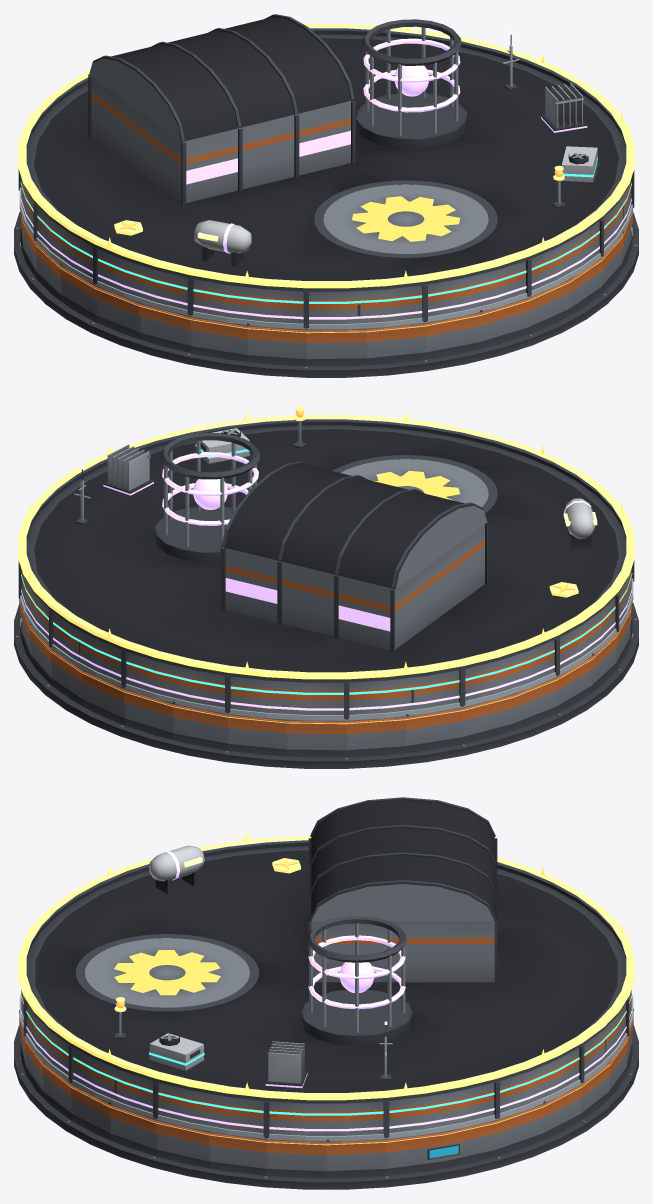
File: metamaterial_foundry_l.glb
The picture shows the model from 3 angles, top to bottom: view 1: azimuth 30°, elevation 25°; view 2: azimuth 150°, elevation 25°; view 3: azimuth 270°, elevation 25°; orthographic projection.
Visible parts, largest first — view 1: Roof, Base, L4, Wall_21, Wall_20, Wall_22, Wall_19, Wall_23, Wall_18, Wall_24, Upper_20, Upper_22 (+25 smaller); view 2: Roof, Base, L4, Wall_10, Wall_11, Wall_09, Wall_12, Wall_08, Wall_13, Wall_07, Upper_10, Upper_11 (+25 smaller); view 3: Roof, Base, L4, Wall_00, Wall_31, Wall_30, Wall_29, Wall_01, Wall_02, Upper_00, Upper_31, Wall_28 (+24 smaller).
Boxes of the visible parts, left/top/right/bottom form: Roof: left=25, top=14, right=627, bottom=291; Base: left=14, top=211, right=638, bottom=377; L4: left=194, top=83, right=587, bottom=266; Wall_21: left=306, top=328, right=366, bottom=366; Wall_20: left=247, top=323, right=306, bottom=366; Wall_22: left=366, top=323, right=425, bottom=365; Wall_19: left=190, top=316, right=247, bottom=361; Wall_23: left=425, top=312, right=480, bottom=359; Wall_18: left=139, top=303, right=191, bottom=353; Wall_24: left=479, top=298, right=528, bottom=348; Upper_20: left=247, top=287, right=306, bottom=327; Upper_22: left=366, top=285, right=425, bottom=322; Roof: left=25, top=419, right=627, bottom=682; Base: left=14, top=602, right=638, bottom=768; L4: left=103, top=444, right=597, bottom=549; Wall_10: left=286, top=719, right=346, bottom=757; Wall_11: left=346, top=716, right=405, bottom=757; Wall_09: left=227, top=714, right=286, bottom=756; Wall_12: left=405, top=707, right=462, bottom=752; Wall_08: left=172, top=701, right=227, bottom=750; Wall_13: left=461, top=694, right=513, bottom=744; Wall_07: left=124, top=689, right=173, bottom=739; Upper_10: left=286, top=681, right=346, bottom=718; Upper_11: left=346, top=678, right=405, bottom=718; Roof: left=25, top=797, right=627, bottom=1103; Base: left=14, top=1025, right=638, bottom=1189; L4: left=149, top=845, right=307, bottom=1088; Wall_00: left=326, top=1139, right=386, bottom=1178; Wall_31: left=266, top=1139, right=326, bottom=1178; Wall_30: left=209, top=1131, right=266, bottom=1175; Wall_29: left=155, top=1120, right=209, bottom=1168; Wall_01: left=386, top=1131, right=443, bottom=1175; Wall_02: left=443, top=1120, right=497, bottom=1168; Upper_00: left=326, top=1101, right=386, bottom=1137; Upper_31: left=266, top=1101, right=326, bottom=1137; Wall_28: left=109, top=1101, right=156, bottom=1156.
Bounding box in the file's own units: 18.96 × 6.22 × 18.96.
